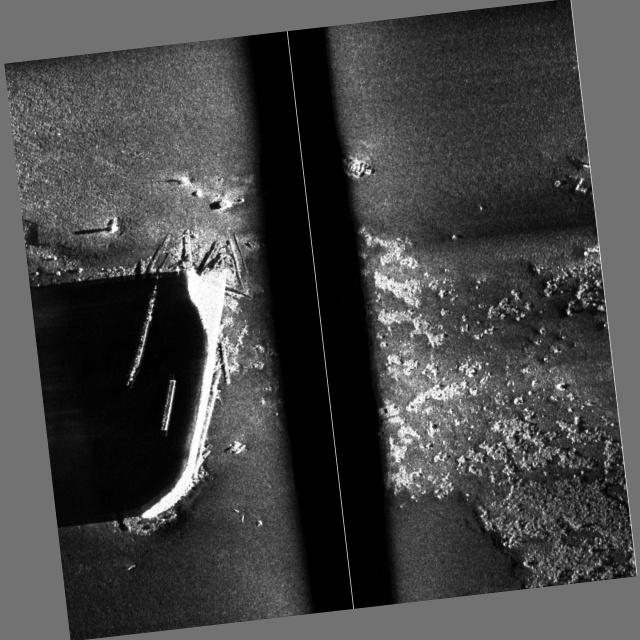Shipwreck: (54, 129, 629, 574)
